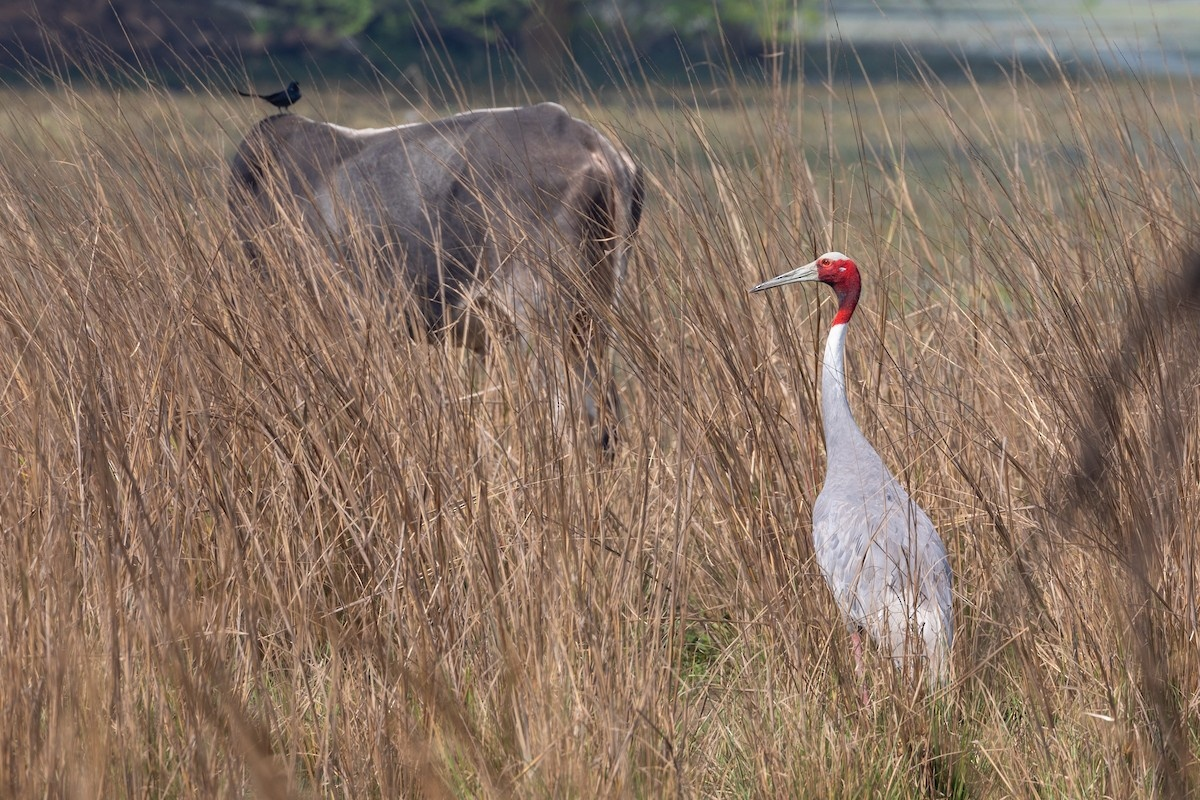crane: (731, 229, 1002, 722)
